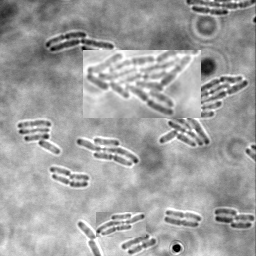Dividing: (52, 175, 89, 189), (128, 238, 157, 255), (166, 209, 202, 222), (164, 217, 200, 228), (192, 7, 229, 17)
Microcolony: (83, 50, 201, 118), (158, 76, 249, 147), (76, 137, 139, 168), (45, 32, 121, 57), (18, 120, 61, 155), (96, 212, 146, 237), (214, 208, 255, 229)
Rod: (121, 233, 150, 251), (78, 222, 99, 240), (50, 167, 72, 177), (69, 174, 90, 183)
